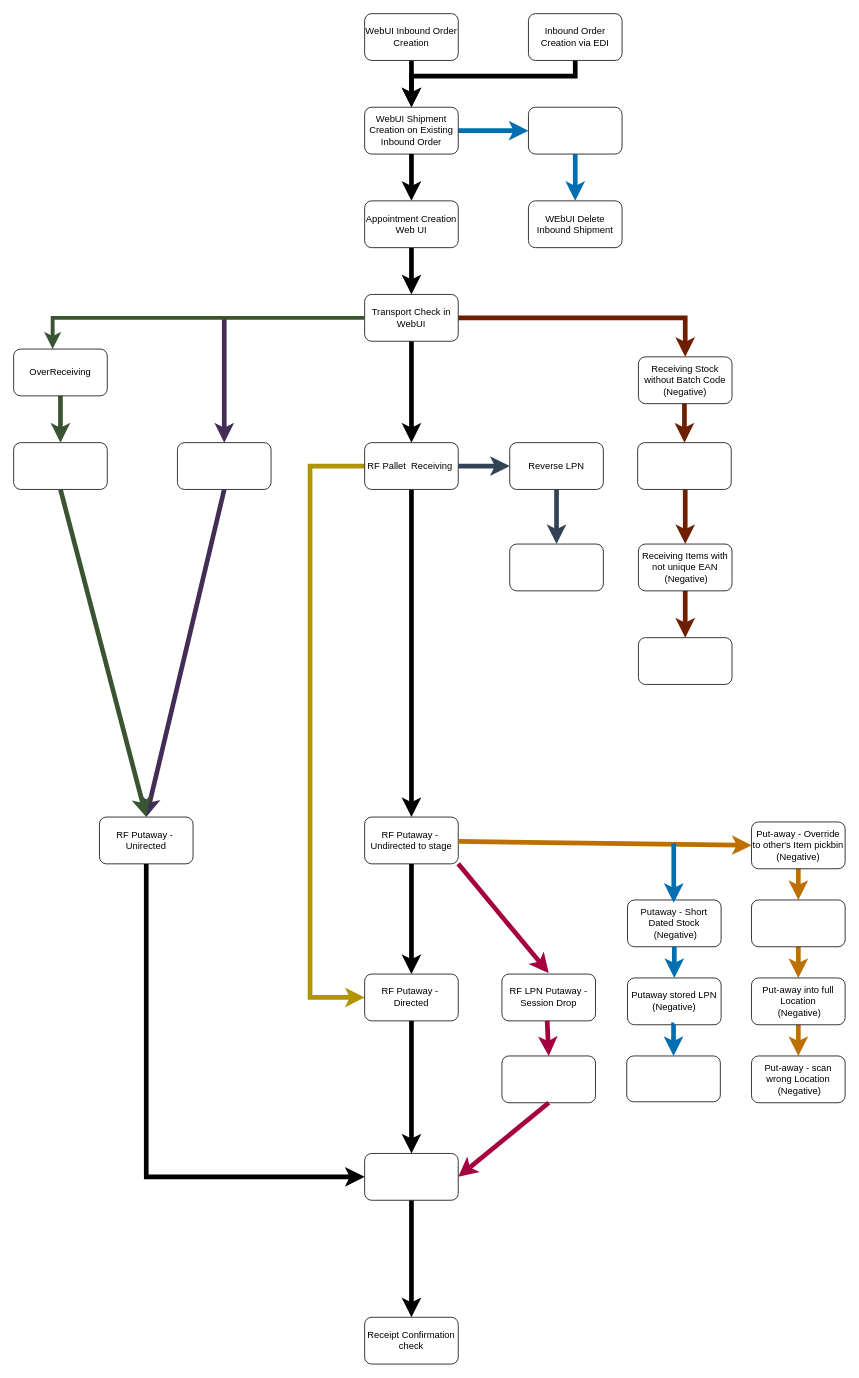
Image size: 859x1378. Some labels were removed from this diagram. Here are the shapes that lost their labels. From the top down, the centre of each, then its label:
At point (575, 130): "Remove Order Line".
At point (60, 465): "UnderReceiving".
At point (224, 465): "SubLPN Receiving to LPN (Returns)".
At point (684, 465): "Receiving Damaged Stock (Negative)".
At point (556, 567): "RF LPN Receiving - Session Drop".
At point (685, 660): "Receiving Date Managed Stock without Expiration Date (Negative)".
At point (798, 923): "Put-away - Location Out of Service (Negative)".
At point (548, 1079): "Put-away - Override".
At point (673, 1078): "Reverse stored LPN (Negative)".
At point (411, 1176): "WebUI Inbound Shipment Completion".
